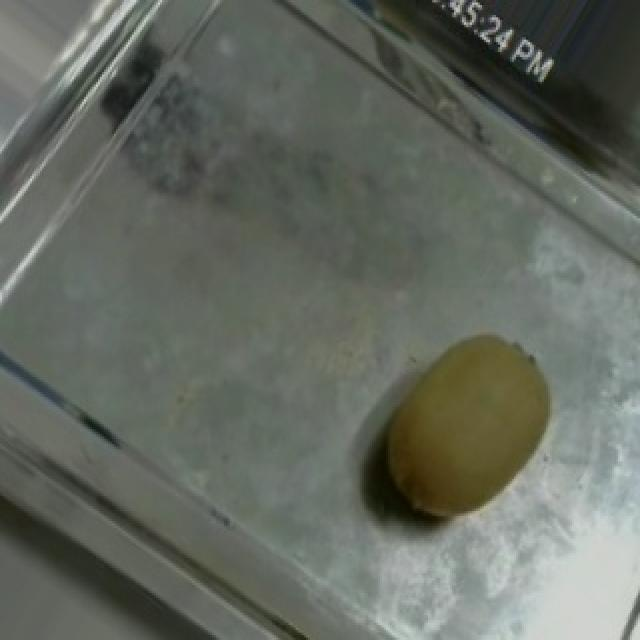Fruit: (340, 302, 588, 550)
